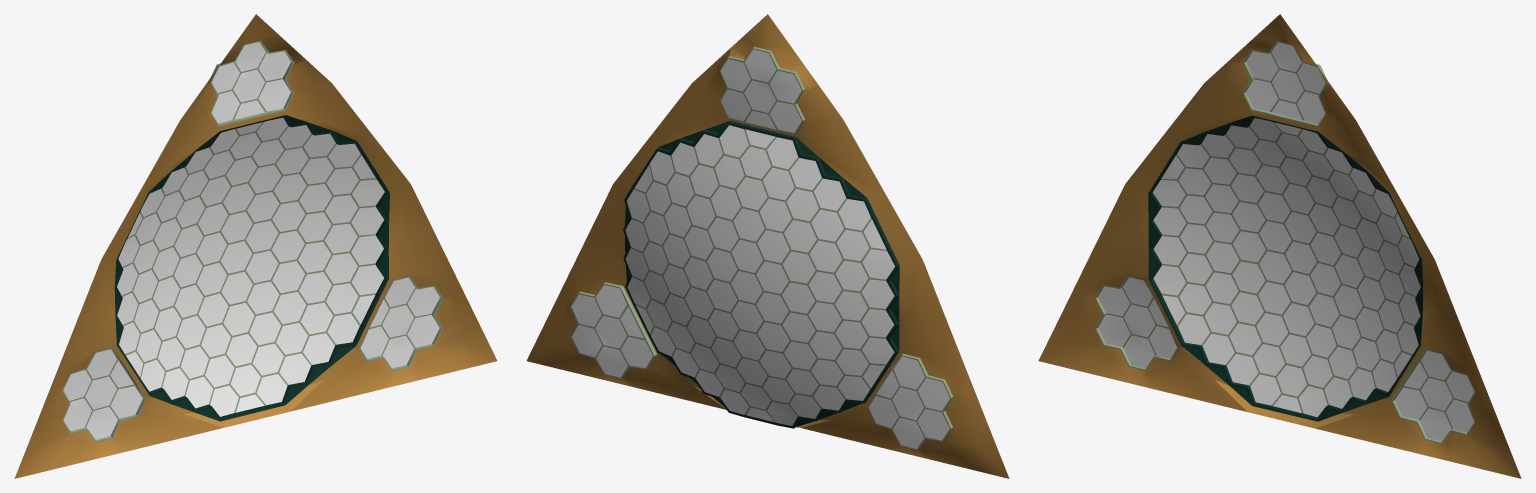
File: Triangular_Window.glb
3 renders of one model, left to right at view 1: azimuth 30°, elevation 25°; view 2: azimuth 150°, elevation 25°; view 3: azimuth 330°, elevation 25°, orthographic.
Parts seen in each view (by area): view 1: LOD0; view 2: LOD0; view 3: LOD0.
Boxes of the visible parts, left/top/right/bottom form: LOD0: left=14, top=14, right=497, bottom=478; LOD0: left=526, top=14, right=1009, bottom=478; LOD0: left=1038, top=14, right=1521, bottom=478.
Size of what is drawn, in the model's own units: 25 by 20.07 by 1.82.
